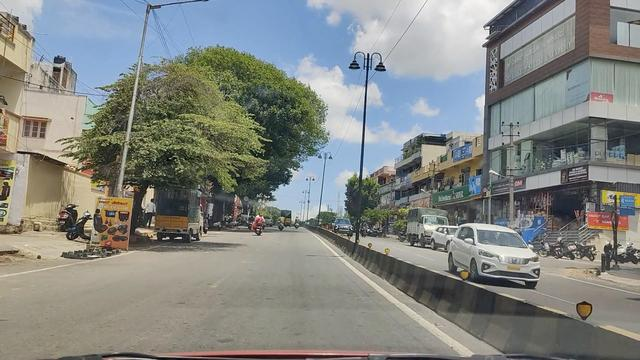HMV: (154, 181, 196, 243)
LMV: (249, 211, 269, 236)
